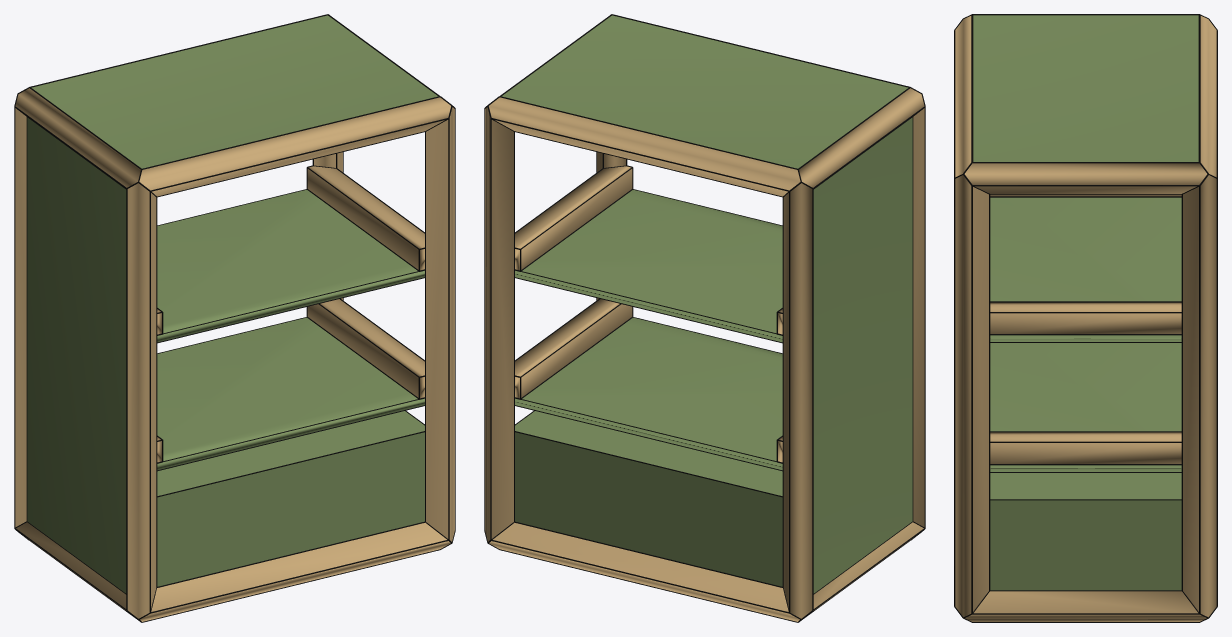
The model's file is servante-moyenne.glb.
3 views of the same model, side by side, from view 1: azimuth 30°, elevation 25°; view 2: azimuth 150°, elevation 25°; view 3: azimuth 270°, elevation 25° (orthographic).
Parts seen in each view (by area): view 1: panneau-joue1, panneau-dessus_exterieur, mod-drawer-0, tablette-plate-mod-1, tablette-plate-mod-0, arete-Z0, arete-Z1, arete-X2, arete-X0, arete-Z2, tablette-traverse-right-mod-1, tablette-traverse-right-mod-0 (+13 smaller); view 2: panneau-joue1, panneau-dessus_exterieur, mod-drawer-0, tablette-plate-mod-1, tablette-plate-mod-0, arete-Z2, arete-Z3, arete-X3, arete-X1, arete-Z0, tablette-traverse-right-mod-1, tablette-traverse-right-mod-0 (+13 smaller); view 3: panneau-dessus_exterieur, mod-drawer-0, tablette-plate-mod-1, tablette-plate-mod-0, arete-Z1, arete-Z3, arete-Y3, arete-Y1, tablette-traverse-right-mod-0, tablette-traverse-right-mod-1, arete-X2, arete-X3 (+12 smaller).
Part boxes in pixels (box(x1,y1,x2,y2)): panneau-joue1: box(27, 117, 126, 593); panneau-dessus_exterieur: box(31, 15, 438, 168); mod-drawer-0: box(157, 411, 424, 586); tablette-plate-mod-1: box(157, 189, 424, 342); tablette-plate-mod-0: box(157, 317, 424, 470); arete-Z0: box(127, 183, 156, 618); arete-Z1: box(426, 107, 454, 541); arete-X2: box(139, 97, 450, 196); arete-X0: box(140, 522, 450, 621); arete-Z2: box(15, 108, 26, 527); tablette-traverse-right-mod-1: box(307, 166, 424, 270); tablette-traverse-right-mod-0: box(307, 299, 424, 398); panneau-joue1: box(813, 117, 912, 593); panneau-dessus_exterieur: box(501, 15, 908, 168); mod-drawer-0: box(515, 411, 782, 586); tablette-plate-mod-1: box(515, 189, 782, 342); tablette-plate-mod-0: box(515, 317, 782, 470); arete-Z2: box(783, 183, 812, 618); arete-Z3: box(485, 107, 513, 541); arete-X3: box(489, 97, 800, 196); arete-X1: box(489, 522, 799, 621); arete-Z0: box(913, 108, 924, 527); tablette-traverse-right-mod-1: box(515, 166, 632, 270); tablette-traverse-right-mod-0: box(515, 299, 632, 398); panneau-dessus_exterieur: box(973, 15, 1198, 161); mod-drawer-0: box(990, 473, 1181, 590); tablette-plate-mod-1: box(990, 197, 1181, 341); tablette-plate-mod-0: box(990, 343, 1181, 471); arete-Z1: box(955, 175, 988, 617); arete-Z3: box(1183, 175, 1216, 617); arete-Y3: box(964, 163, 1207, 193); arete-Y1: box(965, 591, 1206, 621); tablette-traverse-right-mod-0: box(990, 432, 1181, 463); tablette-traverse-right-mod-1: box(990, 302, 1181, 333); arete-X2: box(955, 16, 971, 177); arete-X3: box(1200, 16, 1216, 177).
Bounding box in the file's own units: 0.6309 × 0.8309 × 0.4309.
